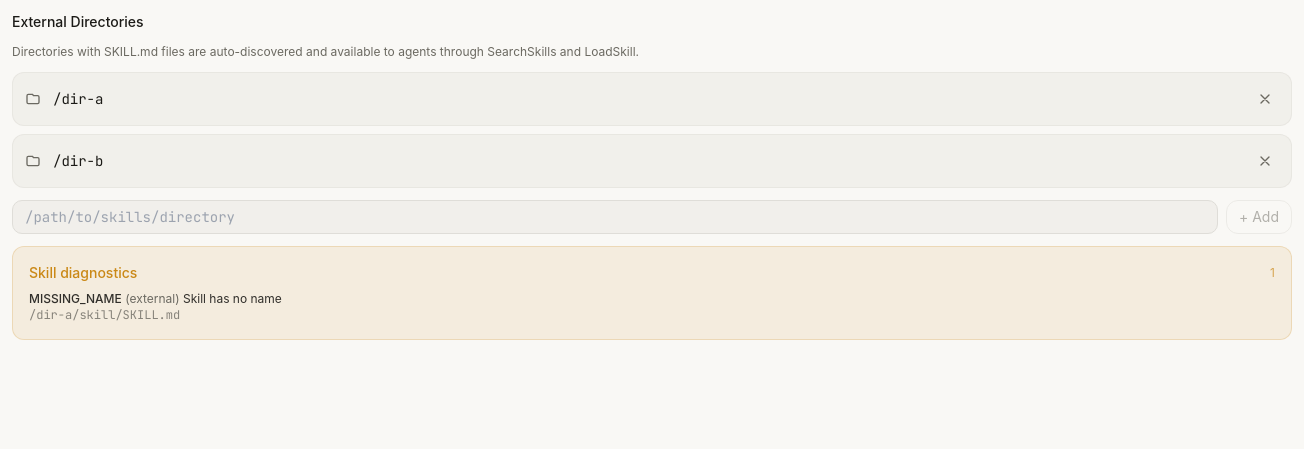
Test: SkillDirsEditor › shows an inline error when save fails
This screenshot has width=1304, height=449.
In the field with placeholder "/path/to/skills/directory": (615, 217) [12,200,1218,234], type "/dir-c"
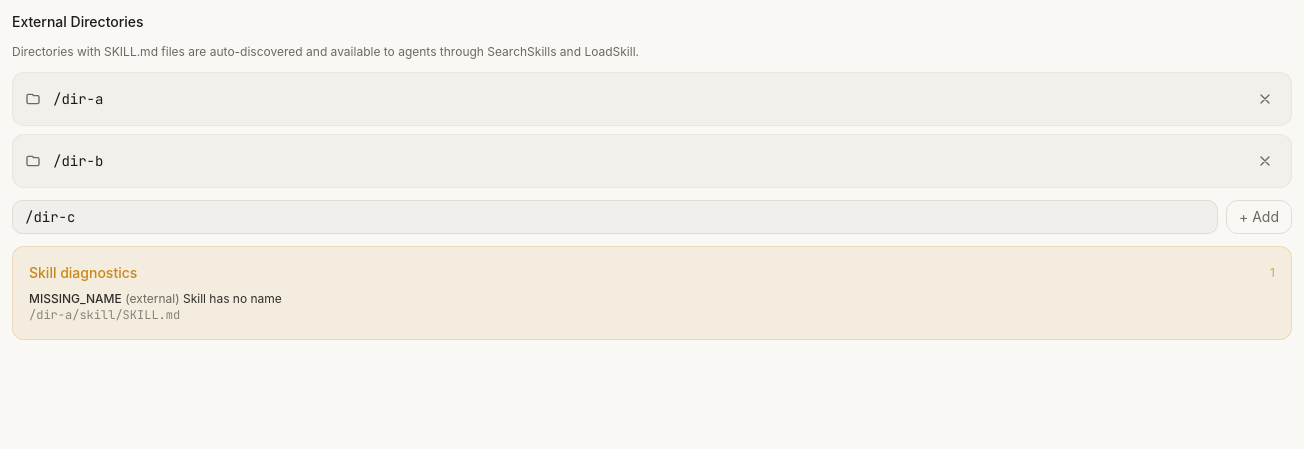
Click the button "+ Add": (1259, 217) [1226,200,1292,234]
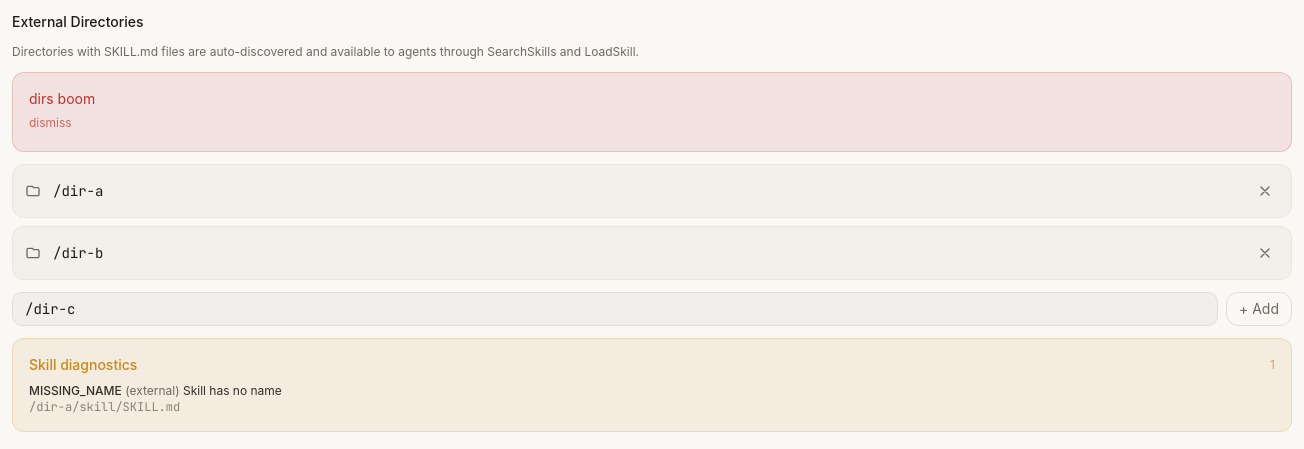
Check: the text "dirs boom" is shown, box [29,90,95,107]
